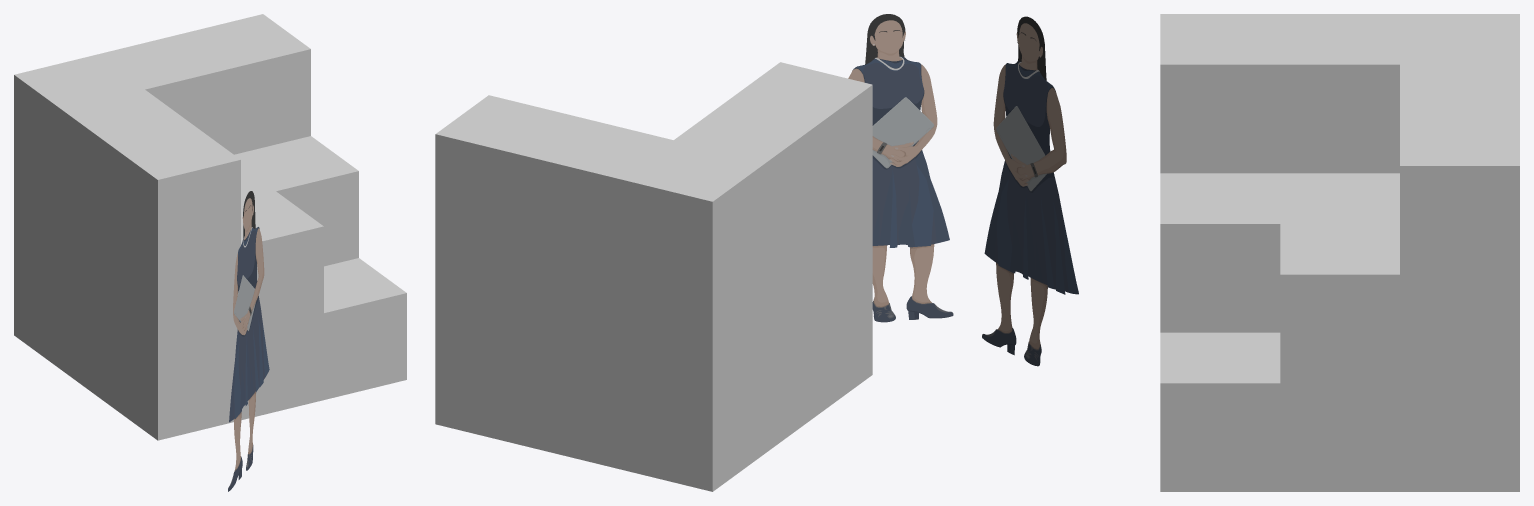
3 renders of one model, left to right at view 1: azimuth 30°, elevation 25°; view 2: azimuth 150°, elevation 25°; view 3: azimuth 270°, elevation 25°, orthographic. The views are drawn at different scales.
Visible parts, largest first — view 1: Geom3D (×7); view 2: Geom3D (×10); view 3: Geom3D (×10).
Part boxes in pixels (box(x1,y1,x2,y2)): Geom3D (×7): box(14, 14, 406, 470); Geom3D (×10): box(435, 14, 953, 491); Geom3D (×10): box(982, 14, 1519, 491).
Size of the model in its own units: 1.51 by 1.59 by 2.24.
